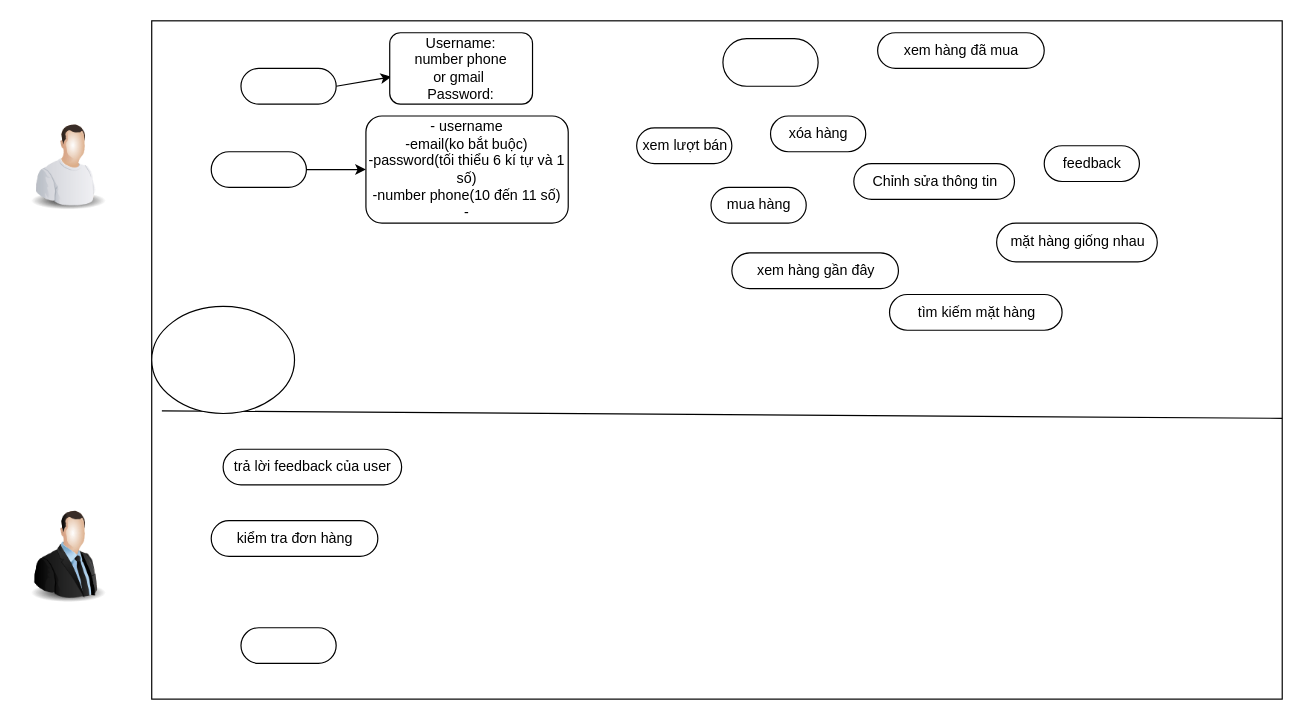
This 1304x720 diagram has some shape labels left out. Each missing label, with the centre of its shape:
(*)LƯU Ý: point (223, 359)
login: point (288, 85)
NGƯỜI BÁN: point (67, 555)
register: point (258, 169)
USER: point (67, 163)
xem lượt mua: point (770, 61)
